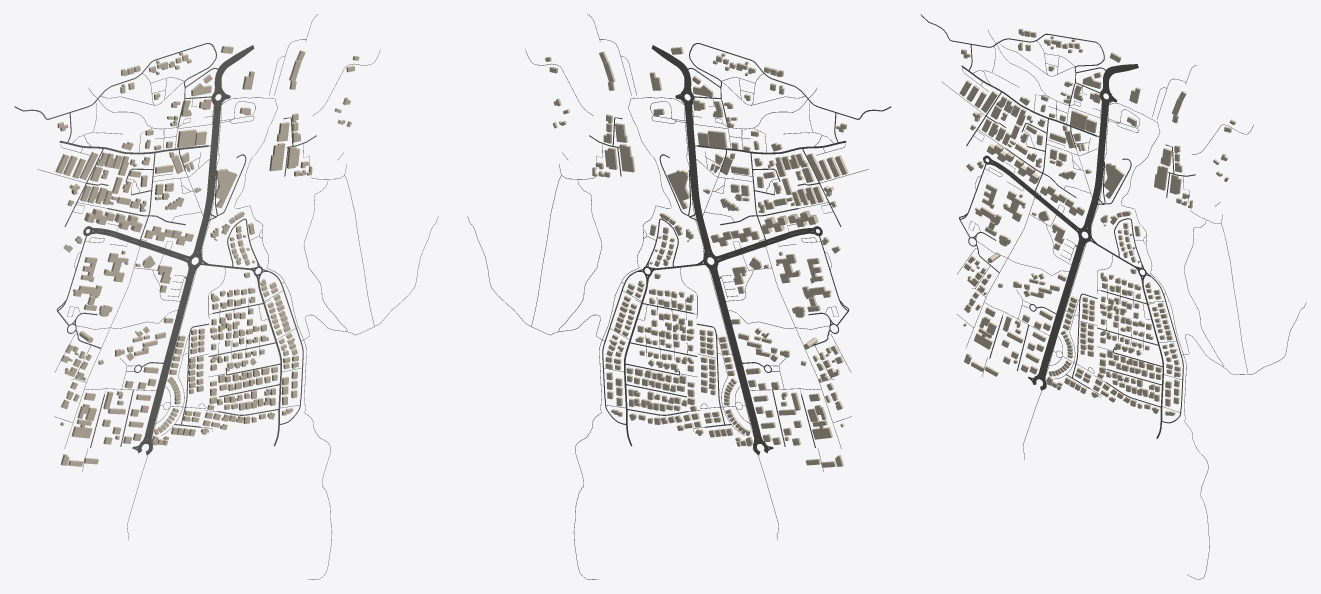
Rendered from historic-palestine-13_30_3550_3249.glb.
3 renders of one model, left to right at view 1: azimuth 30°, elevation 25°; view 2: azimuth 150°, elevation 25°; view 3: azimuth 330°, elevation 25°, orthographic. The views are drawn at different scales.
Parts seen in each view (by area): view 1: Road 90.002, Road שדרות מנחם בגין, Road שדרות מנחם בגין.004, Road שדרות מנחם בגין.003, Road .016; view 2: Road 90.002, Road שדרות מנחם בגין, Road שדרות מנחם בגין.004, Road שדרות מנחם בגין.003, Road .016; view 3: Road שדרות מנחם בגין, Road 90.002, Road שדרות מנחם בגין.004, Road .016.
Part boxes in pixels (x1=…): Road 90.002: x1=147, y1=265, x2=197, y2=443; Road שדרות מנחם בגין: x1=143, y1=265, x2=192, y2=442; Road שדרות מנחם בגין.004: x1=192, y1=100, x2=217, y2=257; Road שדרות מנחם בגין.003: x1=197, y1=124, x2=219, y2=257; Road .016: x1=234, y1=99, x2=332, y2=579; Road 90.002: x1=708, y1=265, x2=758, y2=443; Road שדרות מנחם בגין: x1=713, y1=265, x2=762, y2=442; Road שדרות מנחם בגין.004: x1=688, y1=100, x2=713, y2=257; Road שדרות מנחם בגין.003: x1=686, y1=124, x2=708, y2=257; Road .016: x1=573, y1=99, x2=671, y2=579; Road שדרות מנחם בגין: x1=1037, y1=236, x2=1082, y2=378; Road 90.002: x1=1041, y1=239, x2=1087, y2=380; Road שדרות מנחם בגין.004: x1=1082, y1=97, x2=1105, y2=230; Road .016: x1=1121, y1=122, x2=1209, y2=579.
Bounding box in the file's own units: 1278 × 1627 × 47.7.
